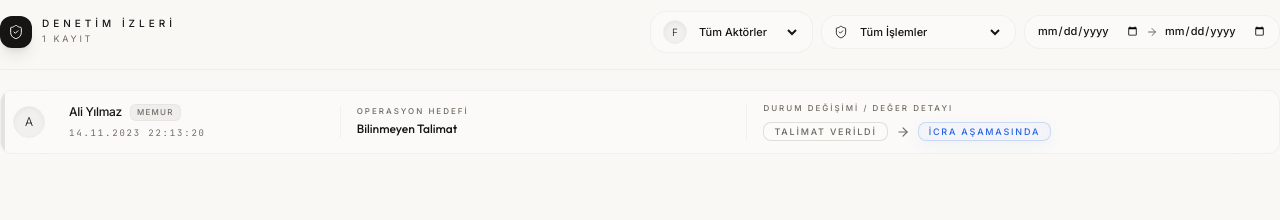
Test: AuditLogList — işlem tipi filtresi SUNUCU tarafında uygulanır (P2-22) › tip filtresi seçiliyken geriye dönük uyumluluk notu gösterilir, "Tüm İşlemler"de gösterilmez
This screenshot has width=1280, height=220.
Select "Durum Değişiklikleri" in the dropdown named "İşlem Tipi Filtresi". click: (930, 32)
box: [856,24,1003,40]
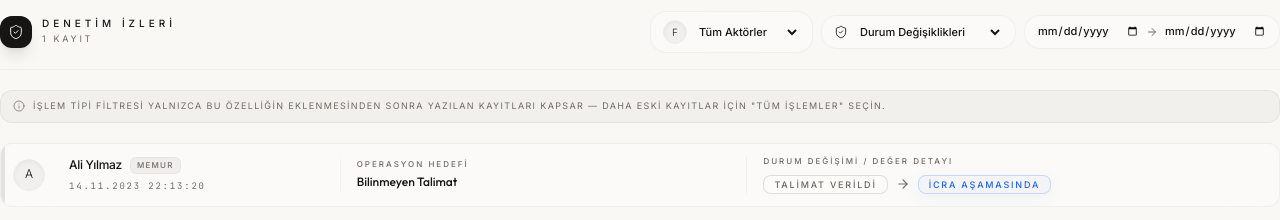
Result: the text "yalnızca bu özelliğin eklenmesinden sonra yazılan kayıtları kapsar" is shown at [33,100,886,111]
